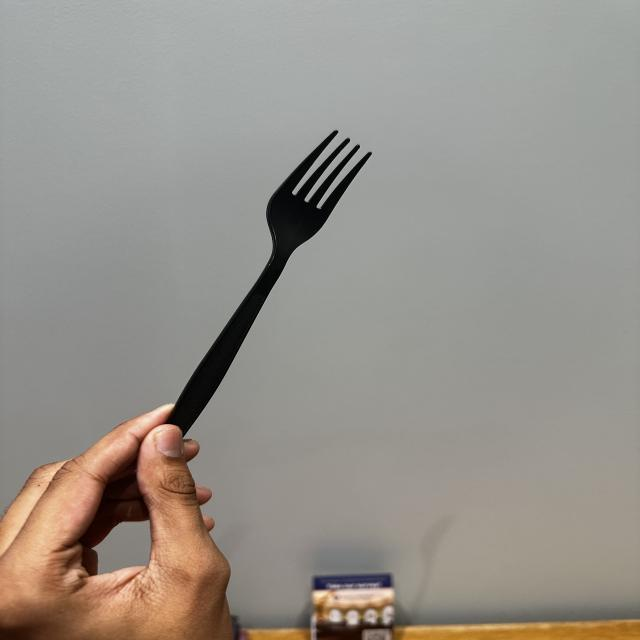fork: (93, 95, 430, 473)
